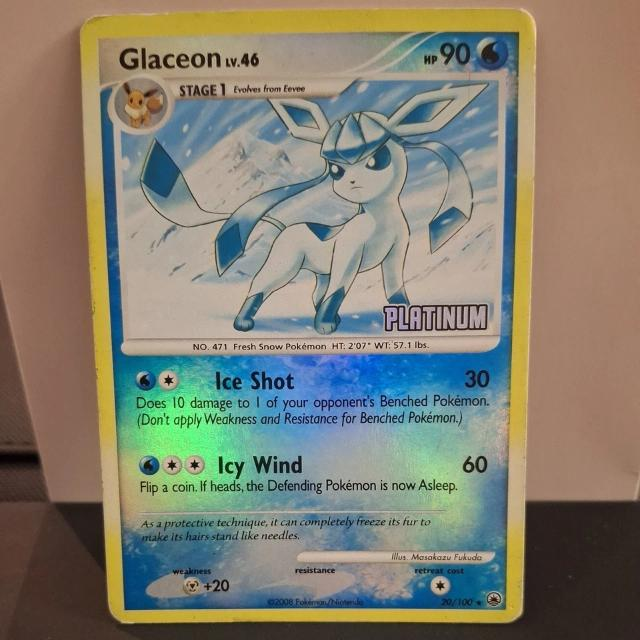Card: (70, 1, 544, 628)
Name: (117, 42, 225, 75)
